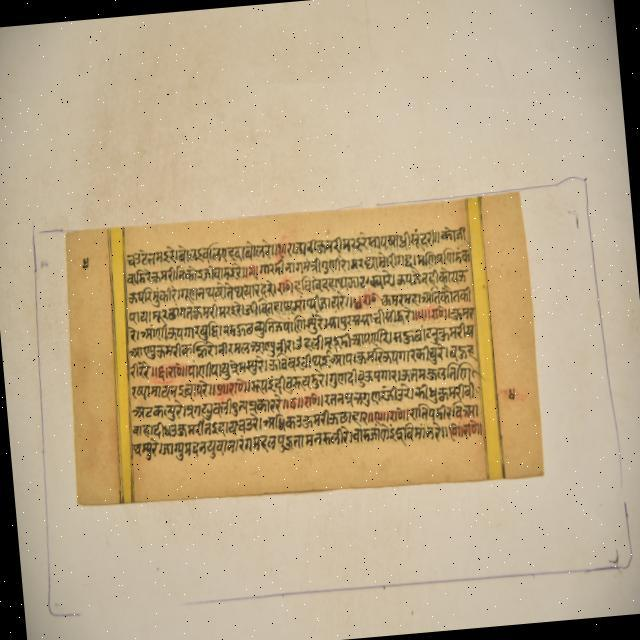text_paragraph: (65, 189, 543, 504)
